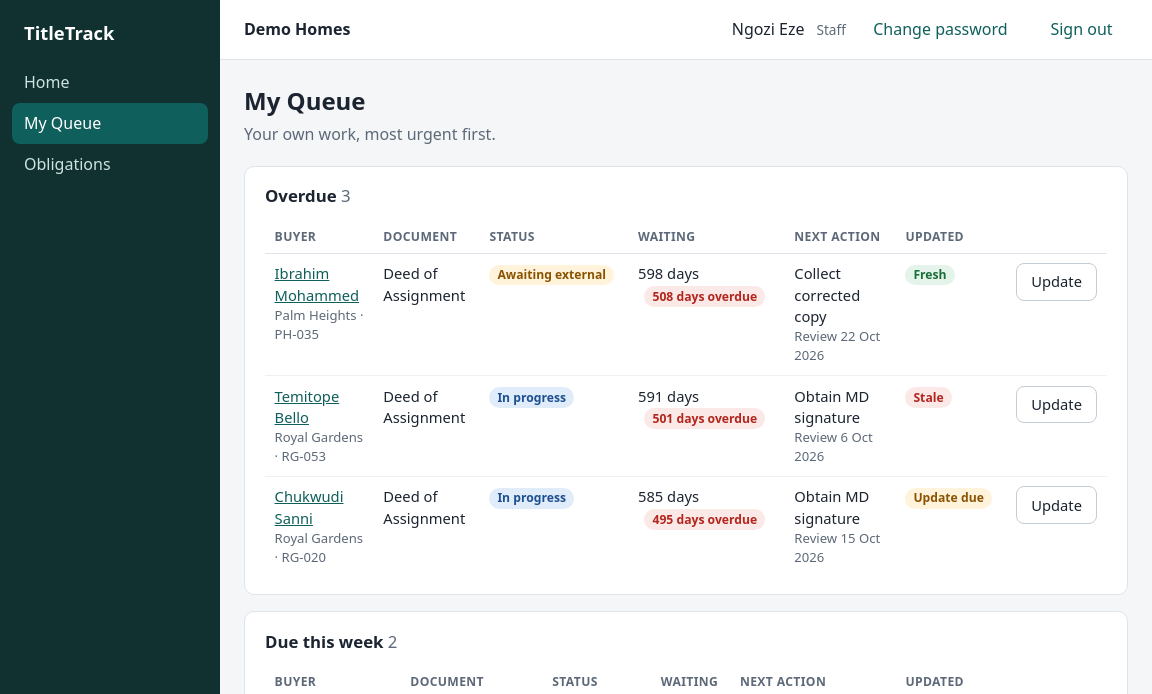
Test: quick update from My Queue › opens a compact form, saves one change, closes and says so
This screenshot has width=1152, height=694.
Click the button "Update" in the row of "Ibrahim Mohammed". click: (1057, 282)
box: x1=1016 y1=263 x2=1097 y2=301
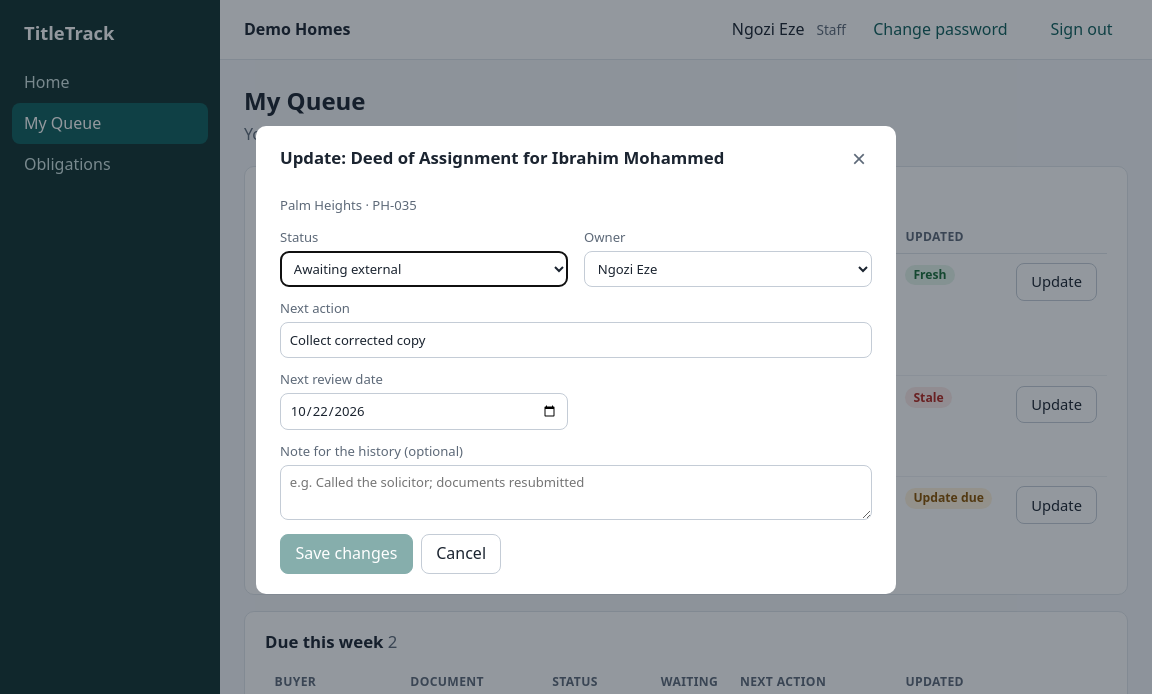
Clear the field labelled "Next action". click: (576, 340)
box: x1=280 y1=322 x2=872 y2=358
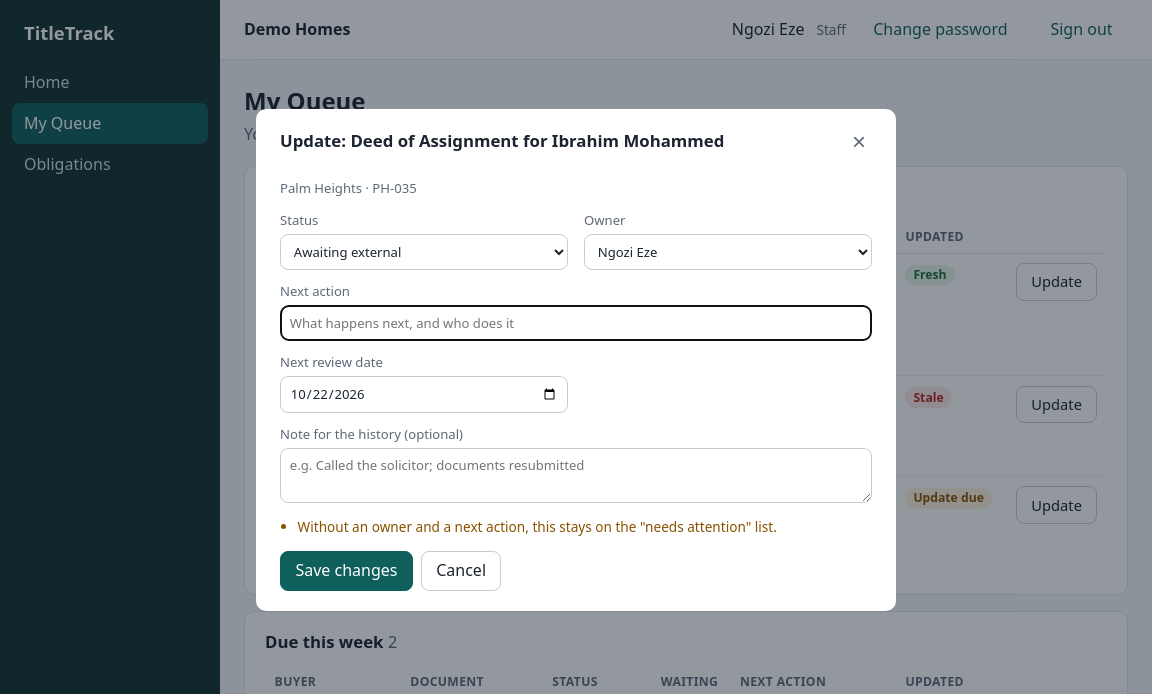
Type "Chase the solicitor" into the field labelled "Next action". click: (576, 323)
box: x1=280 y1=305 x2=872 y2=341
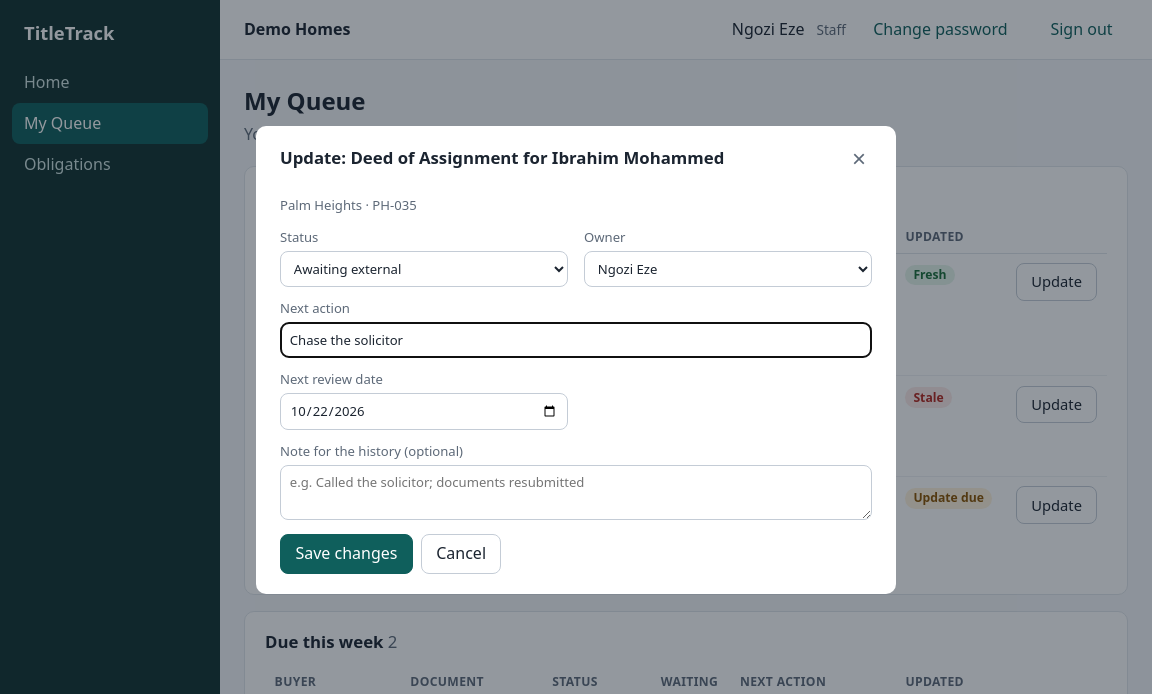
Click the button "Save changes". click: (346, 554)
box: x1=280 y1=534 x2=413 y2=574
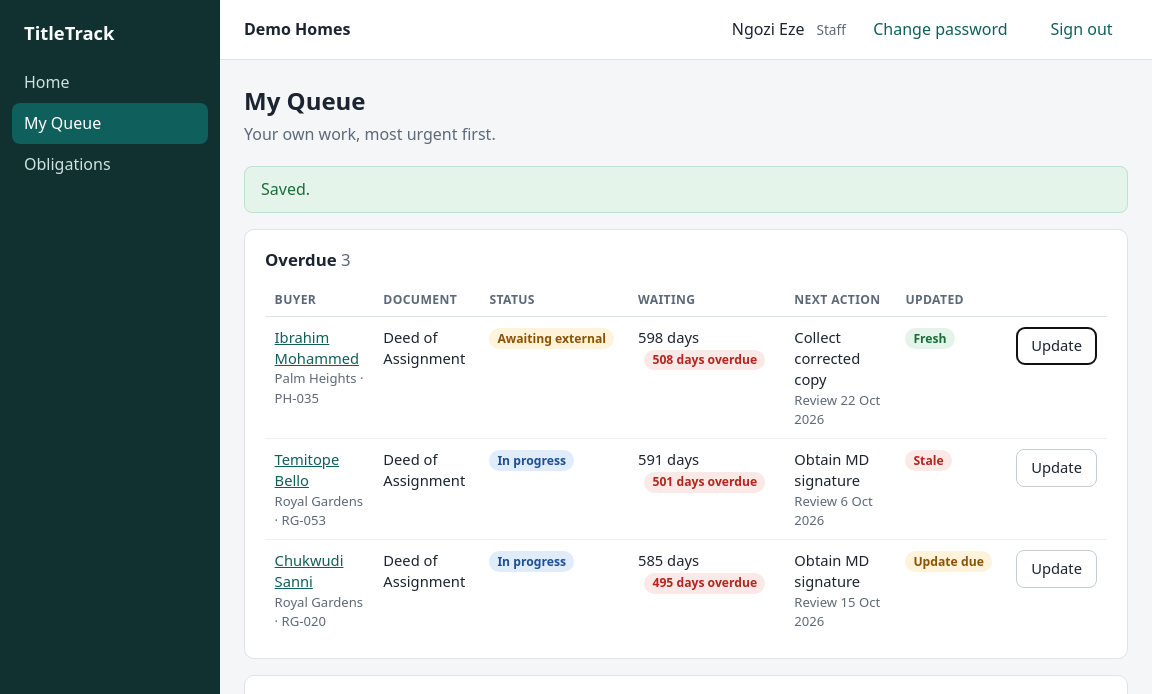
Expected: the dialog is gone
Expected: the text "Saved." is shown, x1=244 y1=166 x2=1128 y2=213
